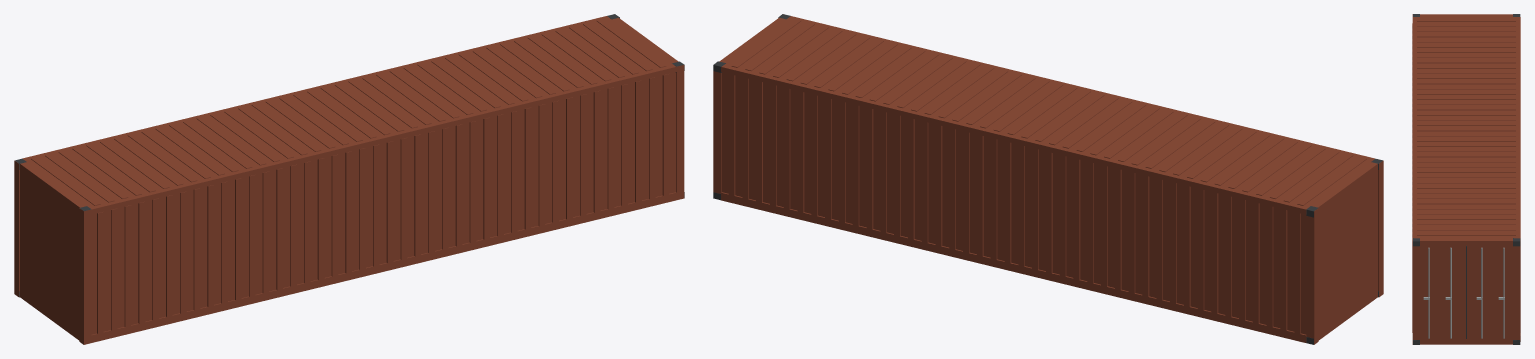
Rendered from prop_container_40_rust.glb.
3 views of the same model, side by side, from view 1: azimuth 30°, elevation 25°; view 2: azimuth 150°, elevation 25°; view 3: azimuth 270°, elevation 25° (orthographic). The views are drawn at different scales.
Visible parts, largest first — view 1: Container; view 2: Container; view 3: Container.
Boxes of the visible parts, x1,y1,x2,y2 form: Container: [14, 14, 684, 344]; Container: [713, 14, 1383, 344]; Container: [1412, 14, 1520, 344].
Bounding box in the file's own units: 12.24 × 2.6 × 2.46.
